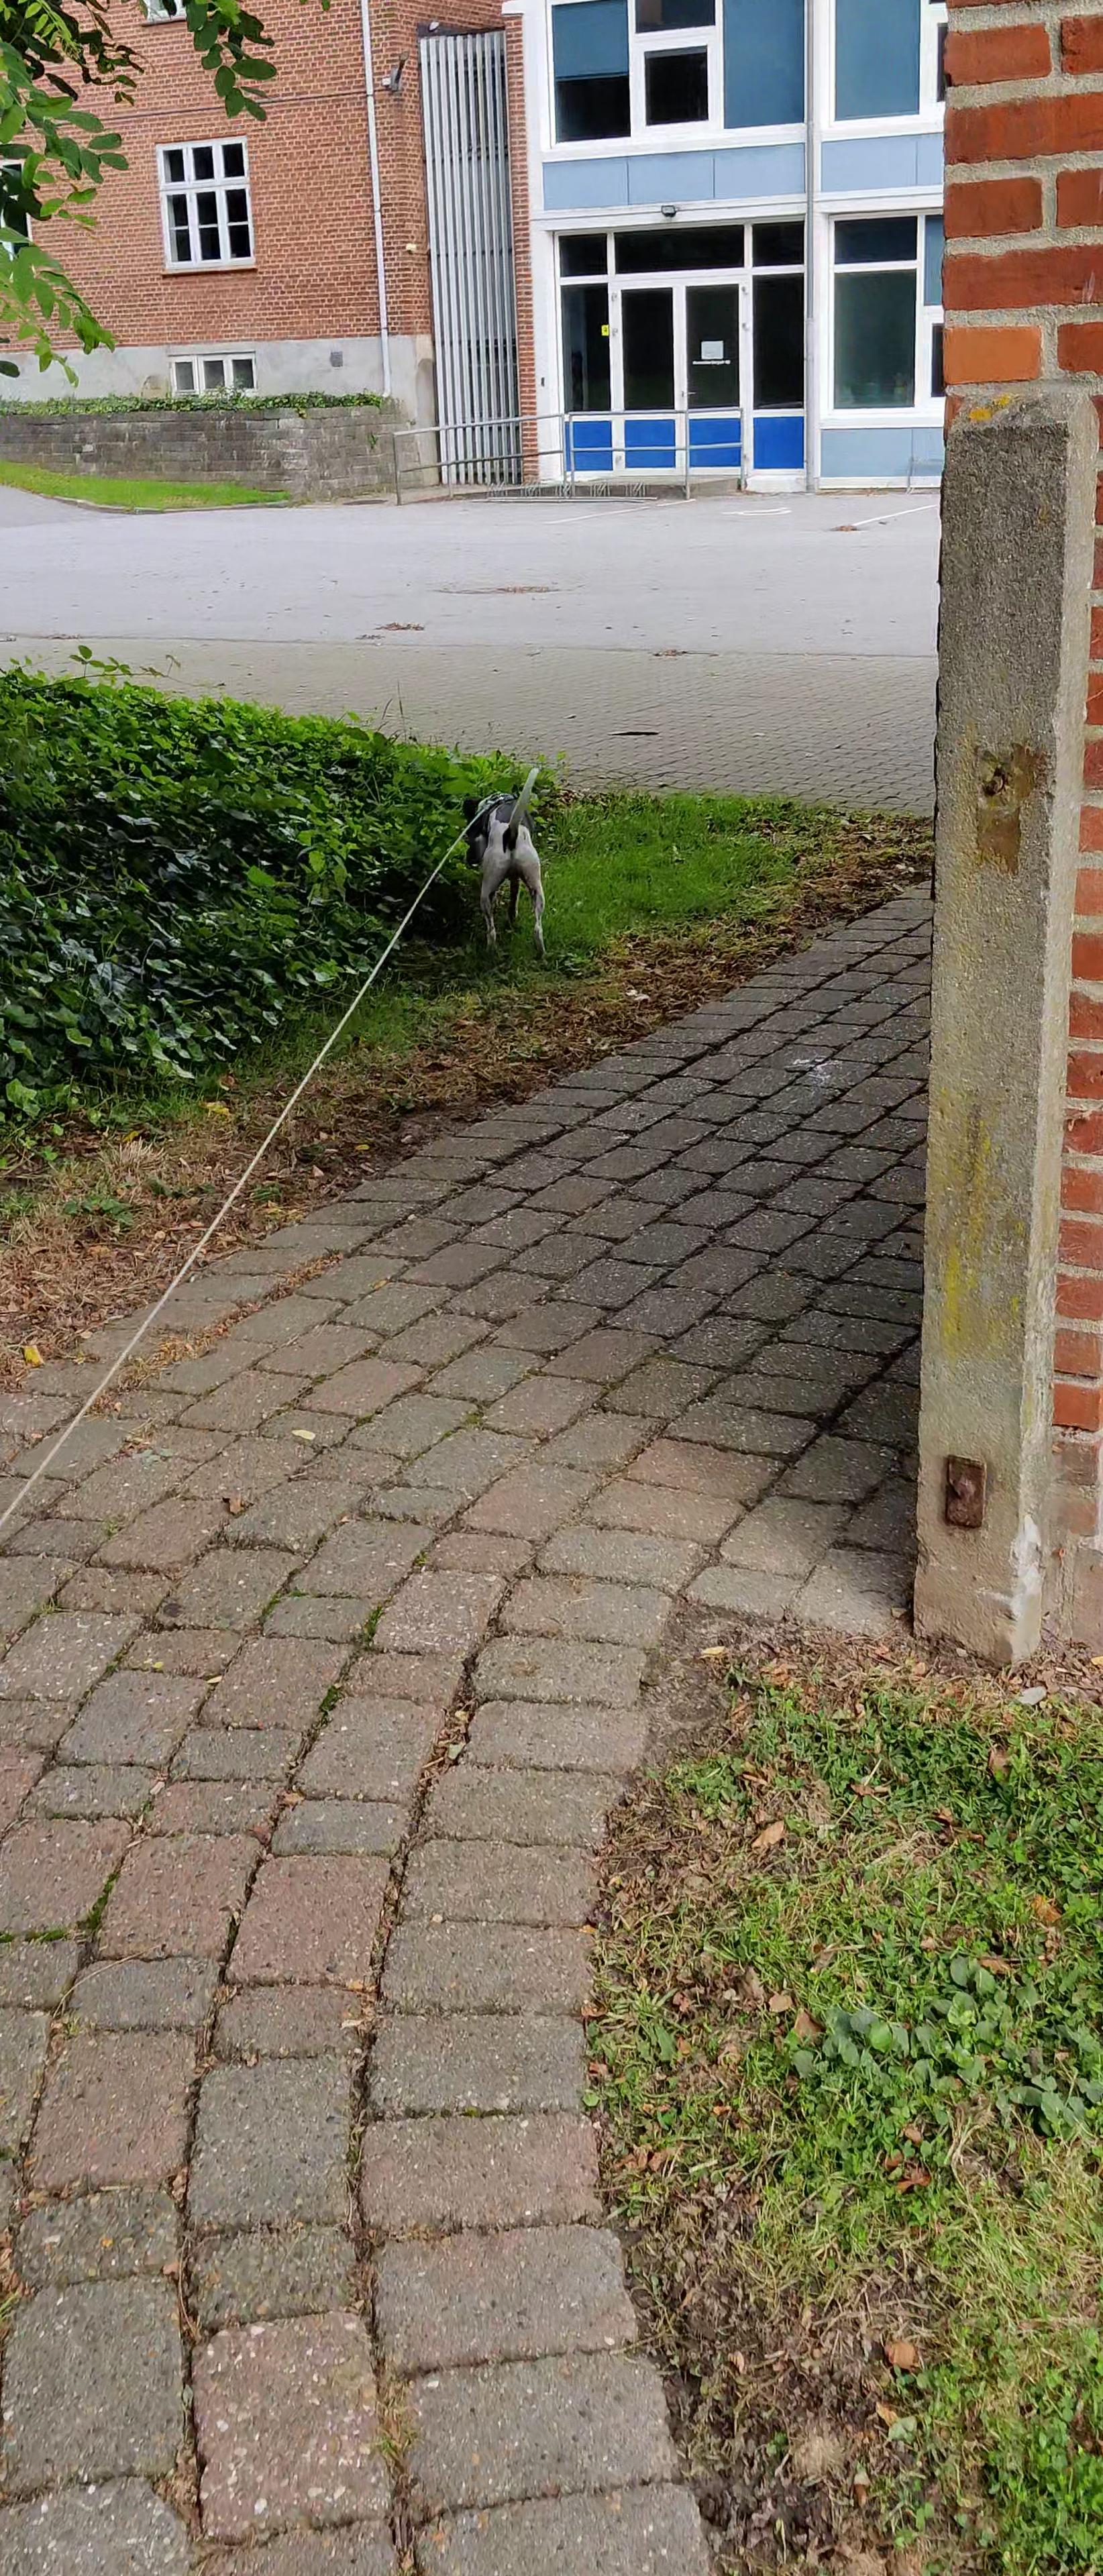Dog: (452, 754, 556, 963)
